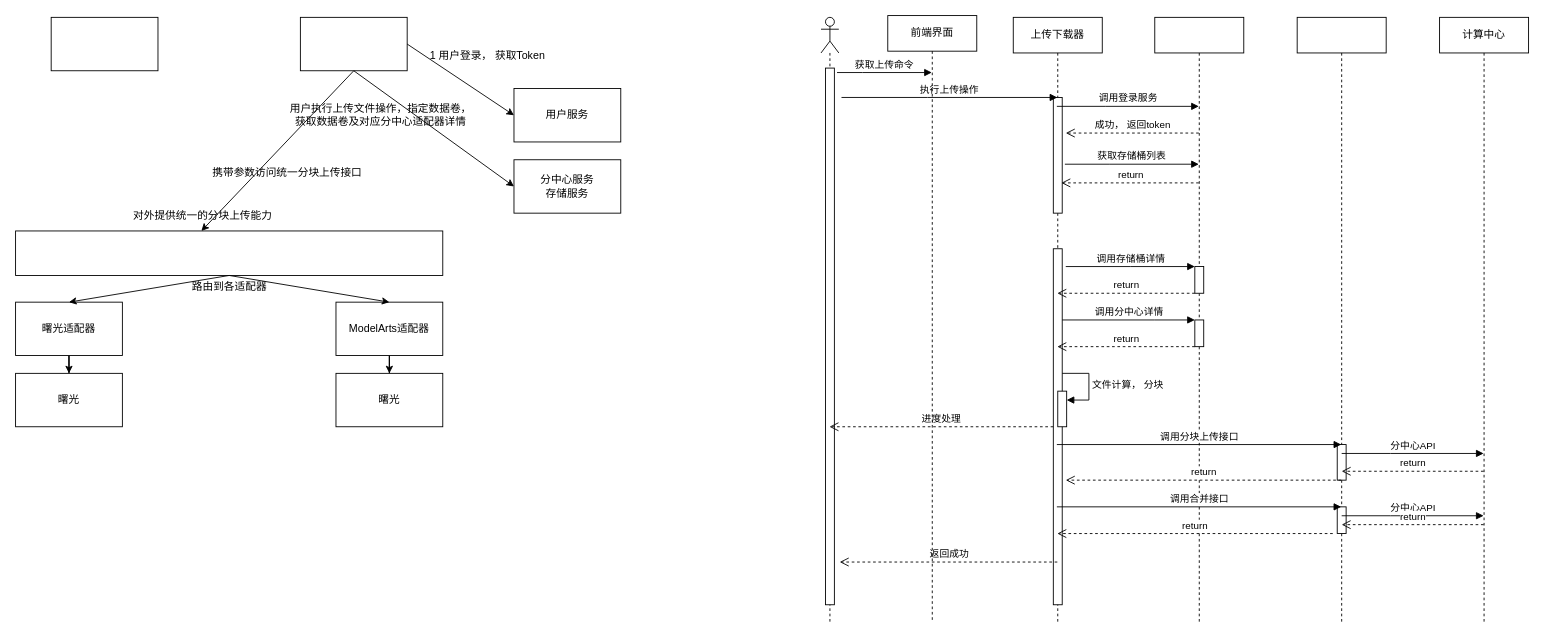
The diagram is 1544 pixels wide and 638 high, and some of its shapes have lost their labels. Here are the shapes that lost their labels. From the top down, the box of each, then its label:
(50, 16, 158, 71): 浏览器
(299, 16, 407, 71): 上传器
(15, 230, 443, 275): 文件API gateway
(1154, 16, 1244, 623): 应用侧服务
(1296, 16, 1386, 623): 分中心适配器
